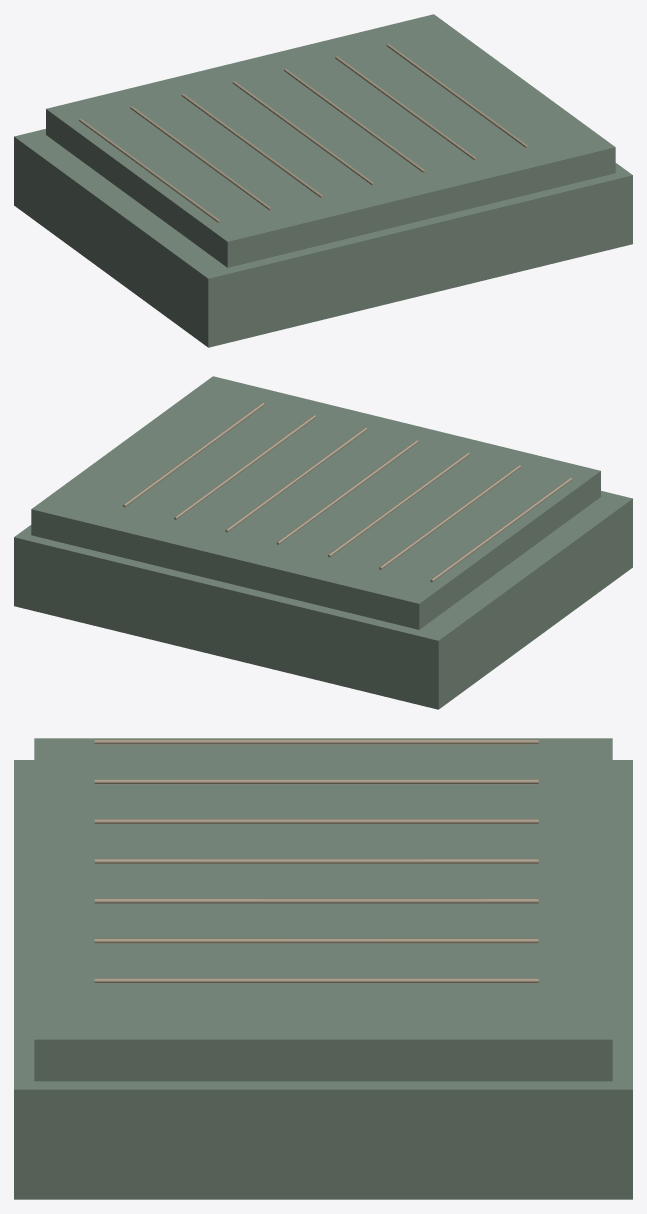
Rendered from fold-ribbed-lightweight-a30847f18e.glb.
The picture shows the model from 3 angles, top to bottom: view 1: azimuth 30°, elevation 25°; view 2: azimuth 150°, elevation 25°; view 3: azimuth 270°, elevation 25°; orthographic projection. The views are drawn at different scales.
Visible parts, largest first — view 1: sage, sole; view 2: sage, sole; view 3: sage, sole.
Part boxes in pixels (x1,y1,x2,y2): sage: (14,14,632,347); sole: (79,43,528,223); sage: (14,376,632,709); sole: (123,402,572,582); sage: (14,738,632,1199); sole: (94,739,538,983).
Size of the model in its own units: 0.29 by 0.0648 by 0.23.
